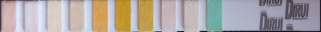color 1: (2, 2, 14, 30)
color 10: (208, 1, 219, 28)
color 2: (25, 2, 37, 30)
color 3: (48, 2, 60, 30)
color 4: (70, 2, 82, 30)
color 5: (93, 2, 106, 29)
color 6: (116, 2, 128, 31)
color 7: (140, 2, 151, 30)
color 8: (163, 2, 174, 30)
color 9: (185, 2, 197, 30)
